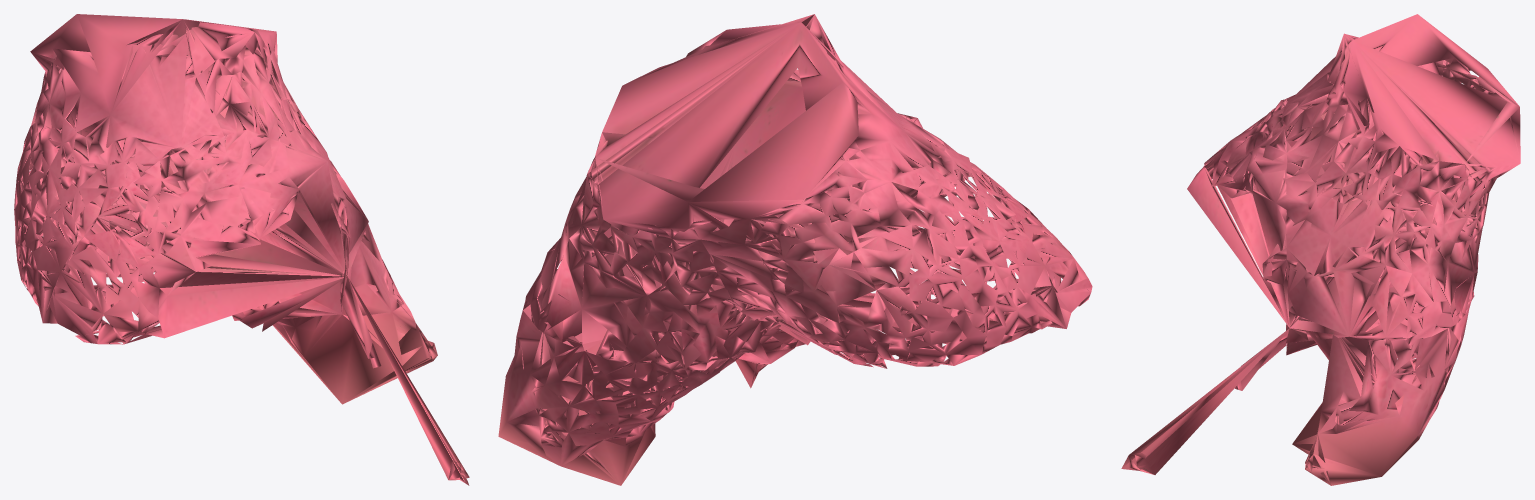
File: clump-hand.glb
3 renders of one model, left to right at view 1: azimuth 30°, elevation 25°; view 2: azimuth 150°, elevation 25°; view 3: azimuth 270°, elevation 25°, orthographic. The views are drawn at different scales.
Visible parts, largest first — view 1: tripo_node_979d959f-e413-4885-b5b2-03f89a7ea28e; view 2: tripo_node_979d959f-e413-4885-b5b2-03f89a7ea28e; view 3: tripo_node_979d959f-e413-4885-b5b2-03f89a7ea28e.
Boxes of the visible parts, box(x1,y1,x2,y2) form: tripo_node_979d959f-e413-4885-b5b2-03f89a7ea28e: box(14, 14, 469, 485); tripo_node_979d959f-e413-4885-b5b2-03f89a7ea28e: box(498, 14, 1092, 485); tripo_node_979d959f-e413-4885-b5b2-03f89a7ea28e: box(1121, 14, 1520, 485).
Bounding box in the file's own units: 0.7827 × 0.7538 × 0.7285.
Materials: 1 (1 with a texture image).
